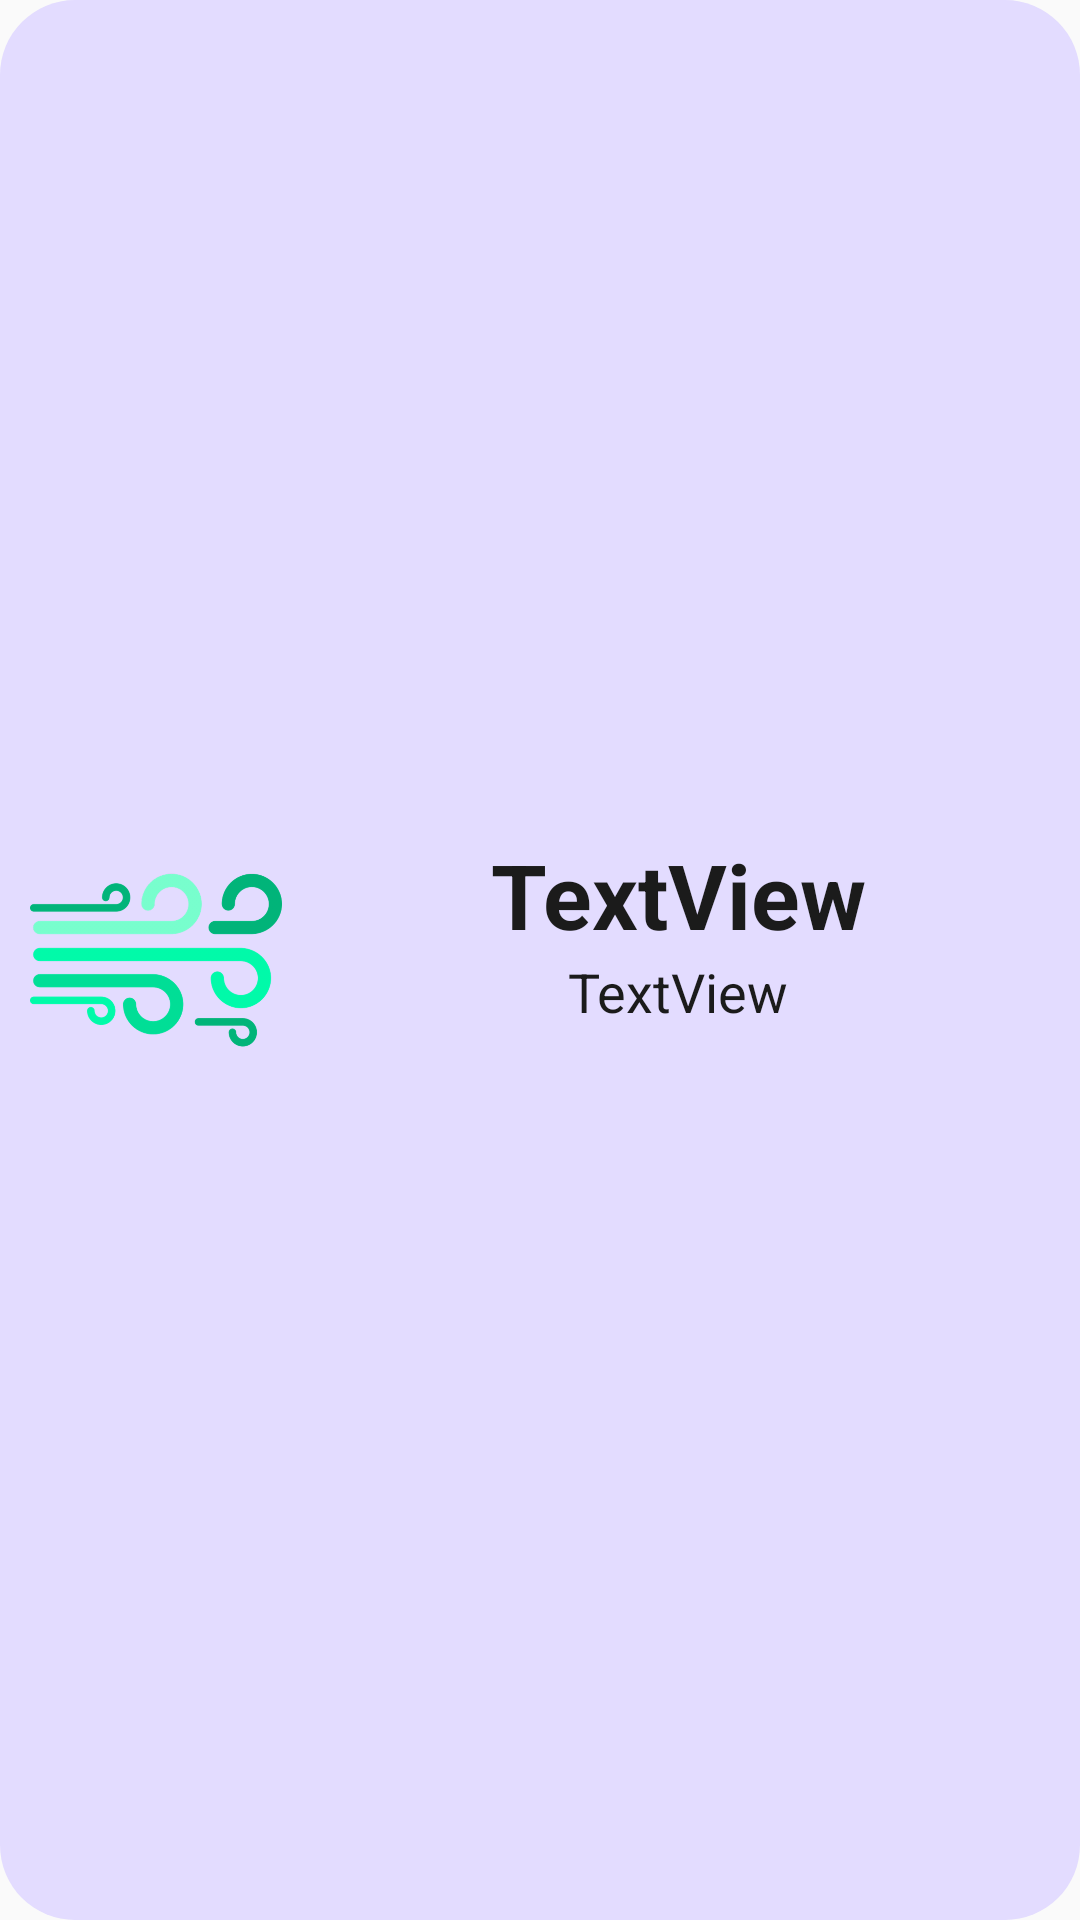

Point at icon controls on the screen. Image size 1080x1920, points as point (x, y).
wind: point (156, 960)
